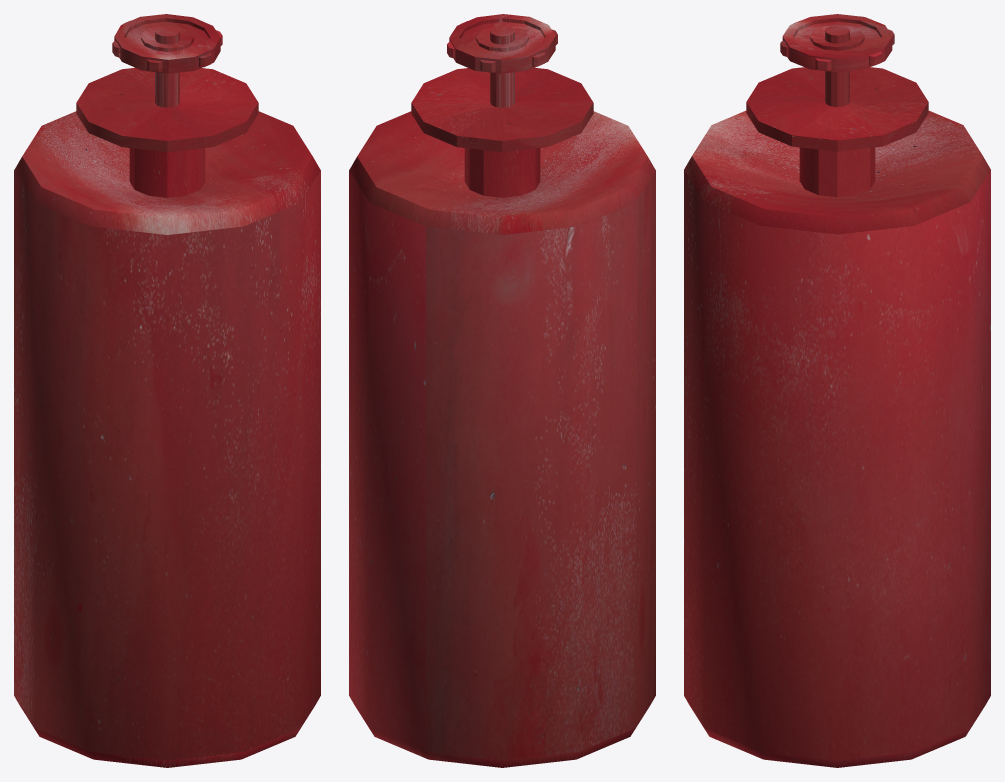
Rendered from TanquedeGasModel.fbx.
3 views of the same model, side by side, from view 1: azimuth 30°, elevation 25°; view 2: azimuth 150°, elevation 25°; view 3: azimuth 270°, elevation 25° (orthographic).
Parts seen in each view (by area): view 1: Tanque de Gas.001, ValvulaShida; view 2: Tanque de Gas.001, ValvulaShida; view 3: Tanque de Gas.001, ValvulaShida.
Boxes of the visible parts, left/top/right/bottom form: Tanque de Gas.001: left=14, top=26, right=320, bottom=767; ValvulaShida: left=112, top=14, right=222, bottom=73; Tanque de Gas.001: left=349, top=26, right=655, bottom=767; ValvulaShida: left=447, top=14, right=557, bottom=73; Tanque de Gas.001: left=684, top=25, right=990, bottom=767; ValvulaShida: left=780, top=14, right=894, bottom=72.
Size of the model in its own units: 200 by 485 by 200.
